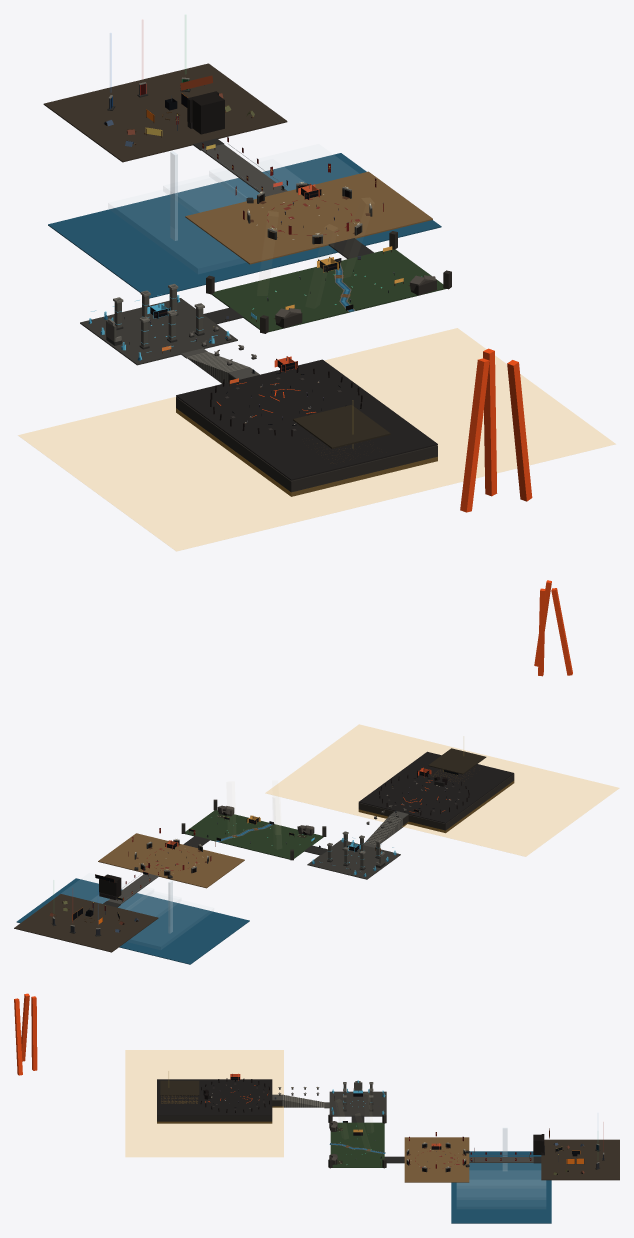
The model's file is emberhold_static_blocks_b.glb.
3 views of the same model, one above another, from view 1: azimuth 30°, elevation 25°; view 2: azimuth 150°, elevation 25°; view 3: azimuth 270°, elevation 25° (orthographic). The views are drawn at different scales.
Parts seen in each view (by area): view 1: emberhold_static_blocks; view 2: emberhold_static_blocks; view 3: emberhold_static_blocks.
Boxes of the visible parts, bbox=[...] form: emberhold_static_blocks: bbox=[18, 15, 614, 550]; emberhold_static_blocks: bbox=[14, 580, 618, 964]; emberhold_static_blocks: bbox=[14, 993, 619, 1223].
Bounding box in the file's own units: 645 × 285 × 1145.
